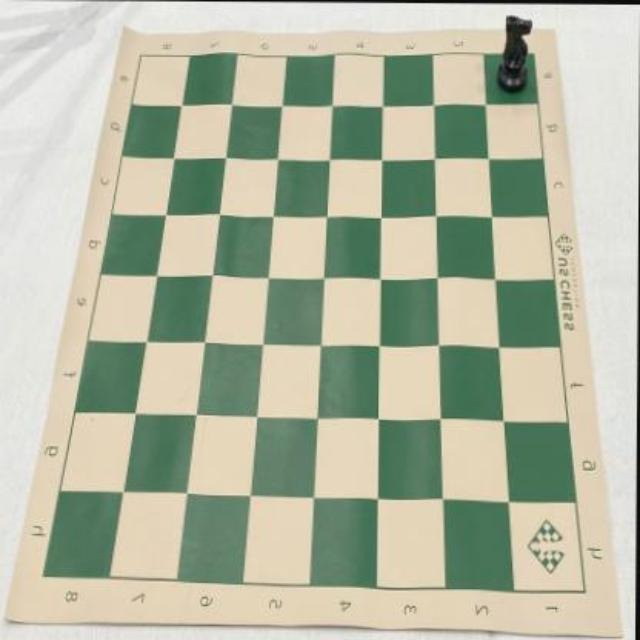black-knight: (496, 14, 532, 92)
